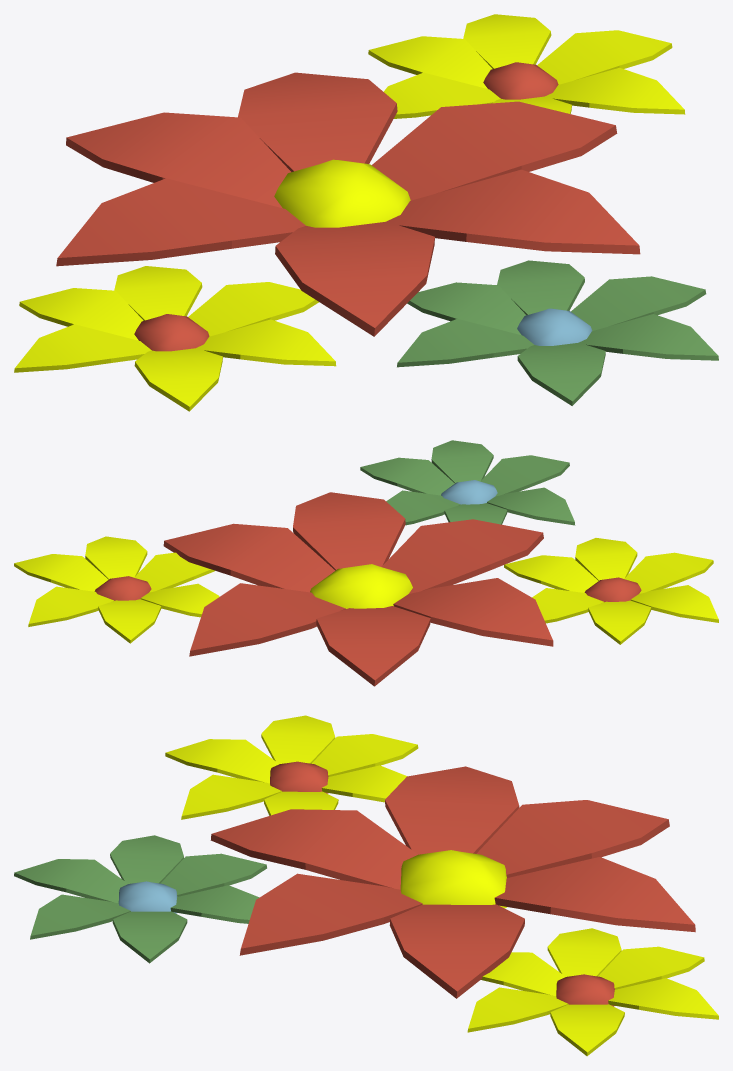
Rendered from SM_Flowers_01.fbx.
3 renders of one model, top to bottom at view 1: azimuth 30°, elevation 25°; view 2: azimuth 150°, elevation 25°; view 3: azimuth 270°, elevation 25°, orthographic. The views are drawn at different scales.
Visible parts, largest first — view 1: SM_Flowers_01; view 2: SM_Flowers_01; view 3: SM_Flowers_01.
Part boxes in pixels (x1=…): SM_Flowers_01: x1=14, y1=14, x2=718, y2=411; SM_Flowers_01: x1=14, y1=440, x2=718, y2=686; SM_Flowers_01: x1=14, y1=715, x2=718, y2=1056.
Bounding box in the file's own units: 45.13 × 2.18 × 39.77.
